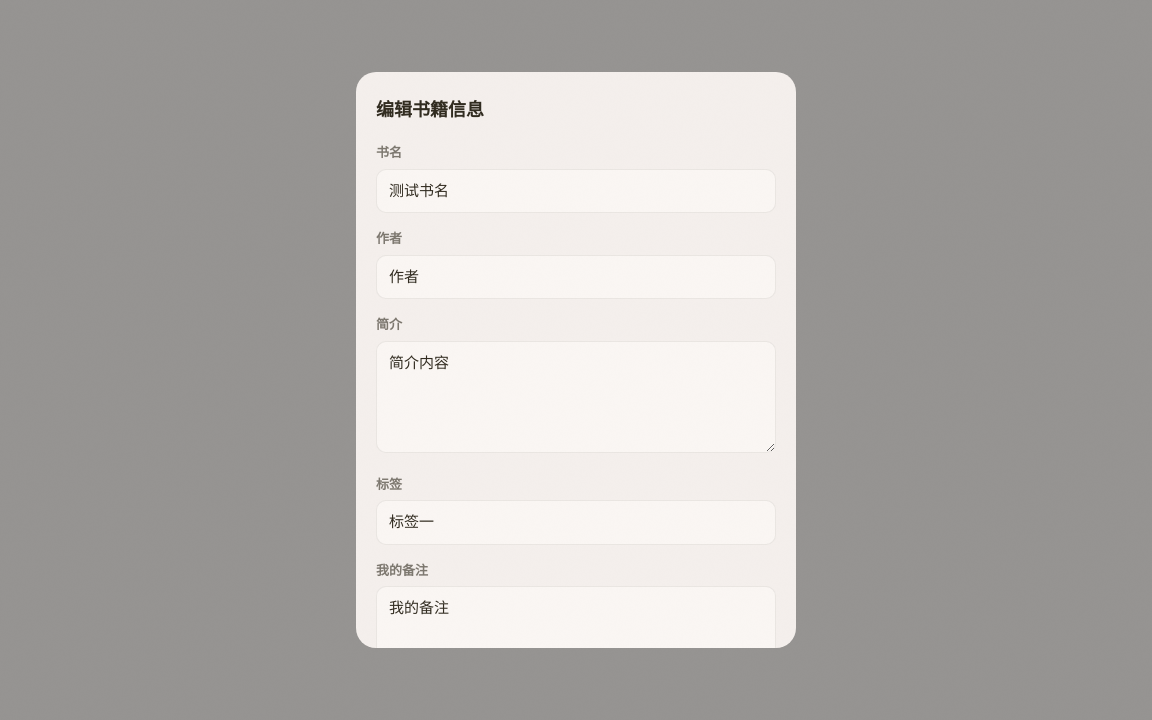
Test: BookEditModal › disables save button when title is empty
The width and height of the screenshot is (1152, 720).
Clear the field showing "测试书名" below "书名" at x=576, y=191, box [376,168,776,213]
(page scrolled)
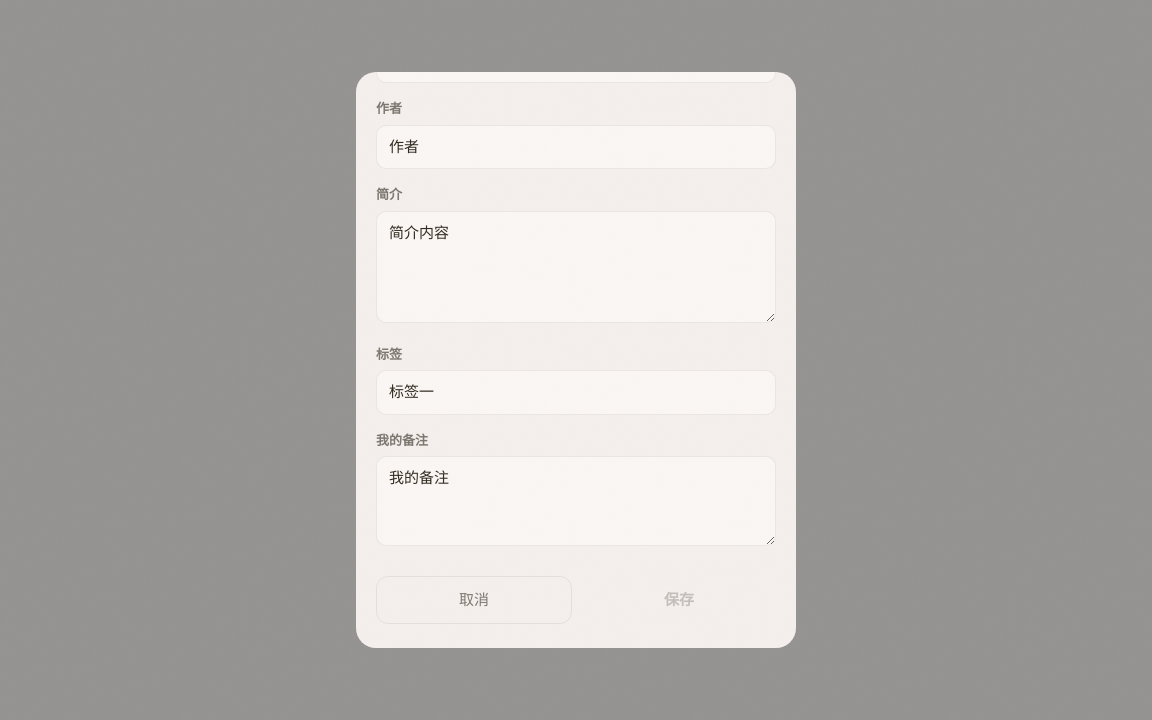
Now the button "保存" is disabled, box [582,576,776,624]
